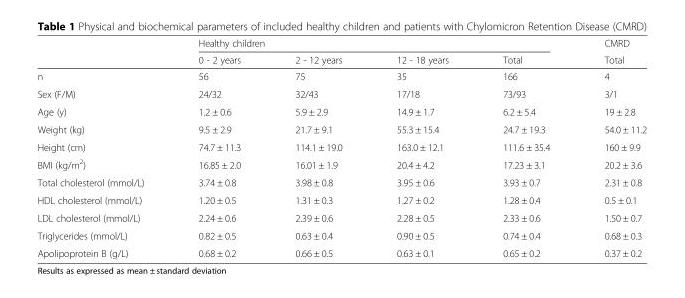table: (36, 37, 646, 258)
table column: (36, 37, 170, 258), (368, 37, 474, 258), (474, 37, 576, 258), (267, 37, 368, 258), (170, 37, 267, 258), (576, 37, 646, 258)
table column header: (36, 37, 646, 67)
table row: (36, 154, 646, 173), (36, 84, 646, 102), (36, 102, 646, 120), (36, 173, 646, 191), (36, 208, 646, 226), (36, 226, 646, 244), (36, 67, 646, 84), (36, 120, 646, 137), (36, 137, 646, 154), (36, 191, 646, 208), (36, 51, 646, 67), (36, 37, 646, 51), (36, 244, 646, 258)
table spanning cell: (170, 37, 576, 51), (576, 37, 646, 67)
